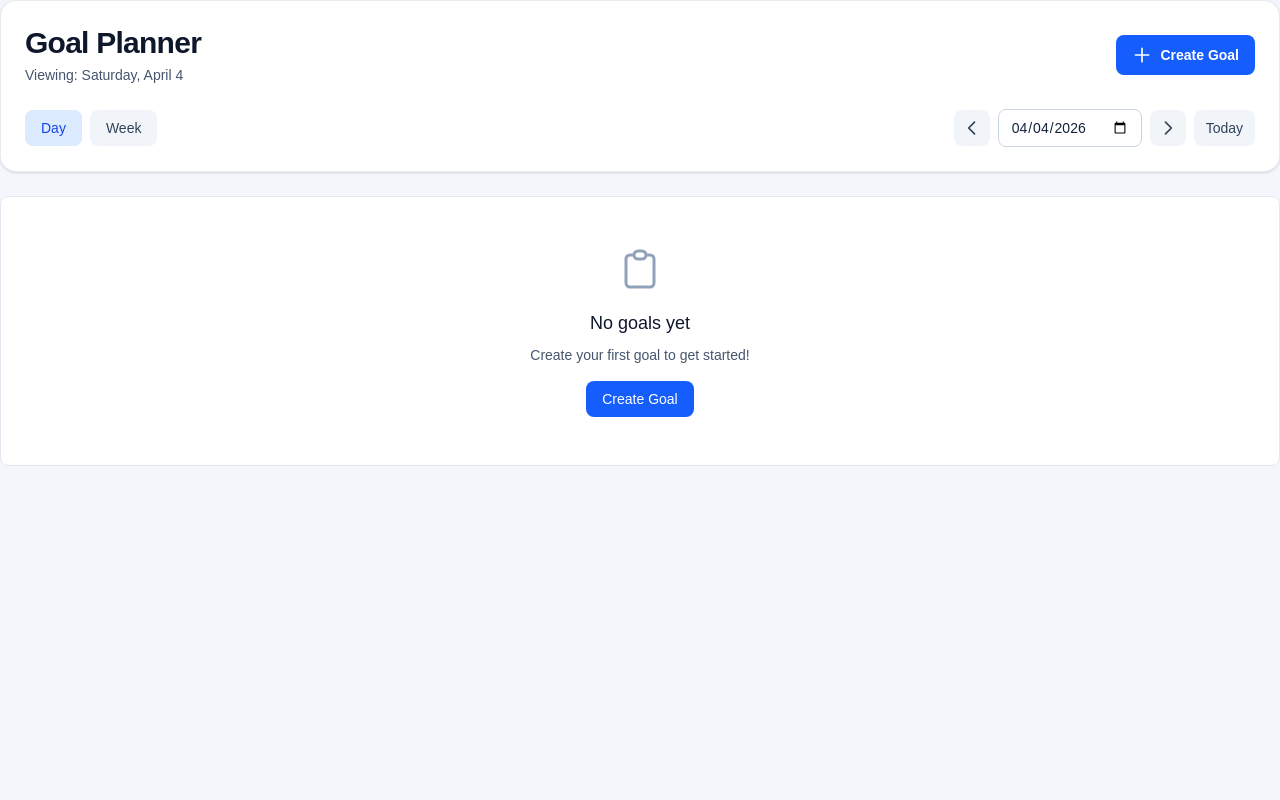
GoalsPage realtime toggle › prefills the create modal with the currently selected planner date
Click the button "Create Goal" in the row of "Goal Planner" at x=1186, y=55, box [1116,35,1255,75]
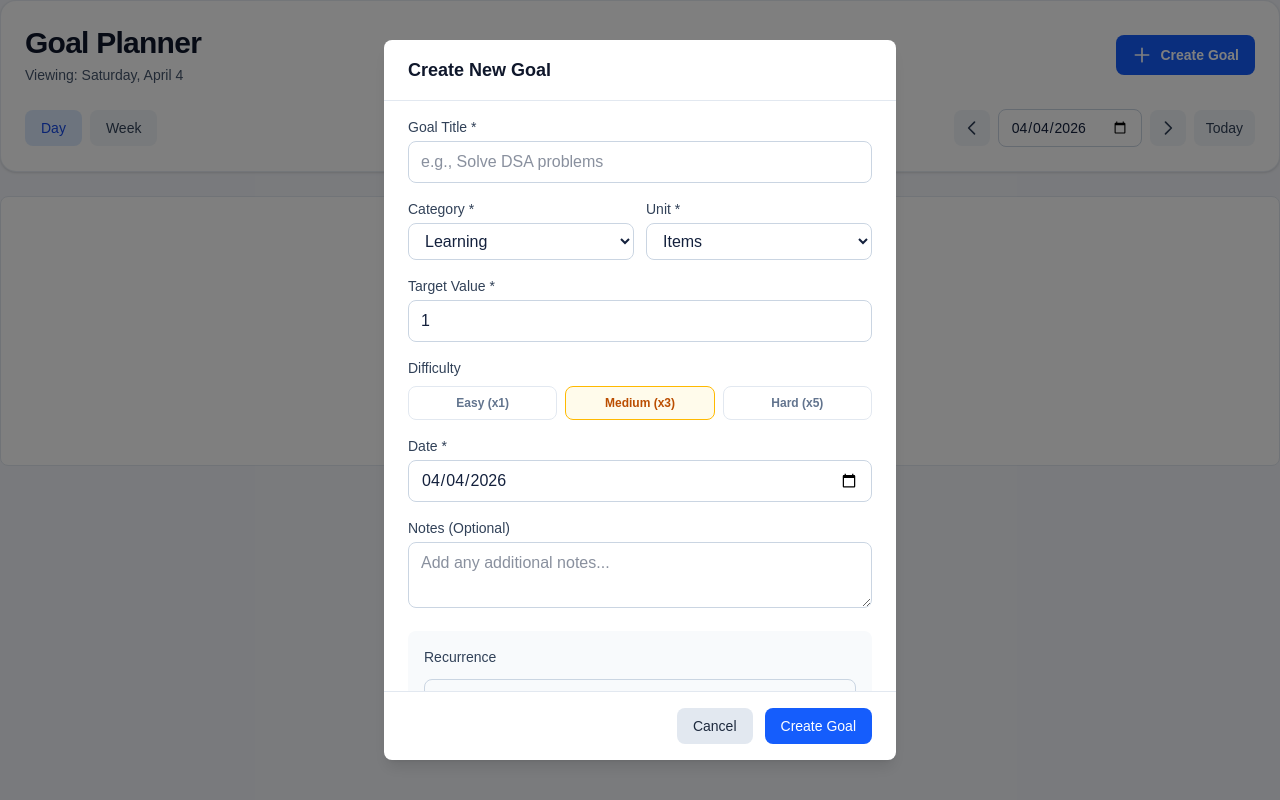
Result: the date field labelled "Date *" holds "2026-04-04" at [408,460,872,502]
